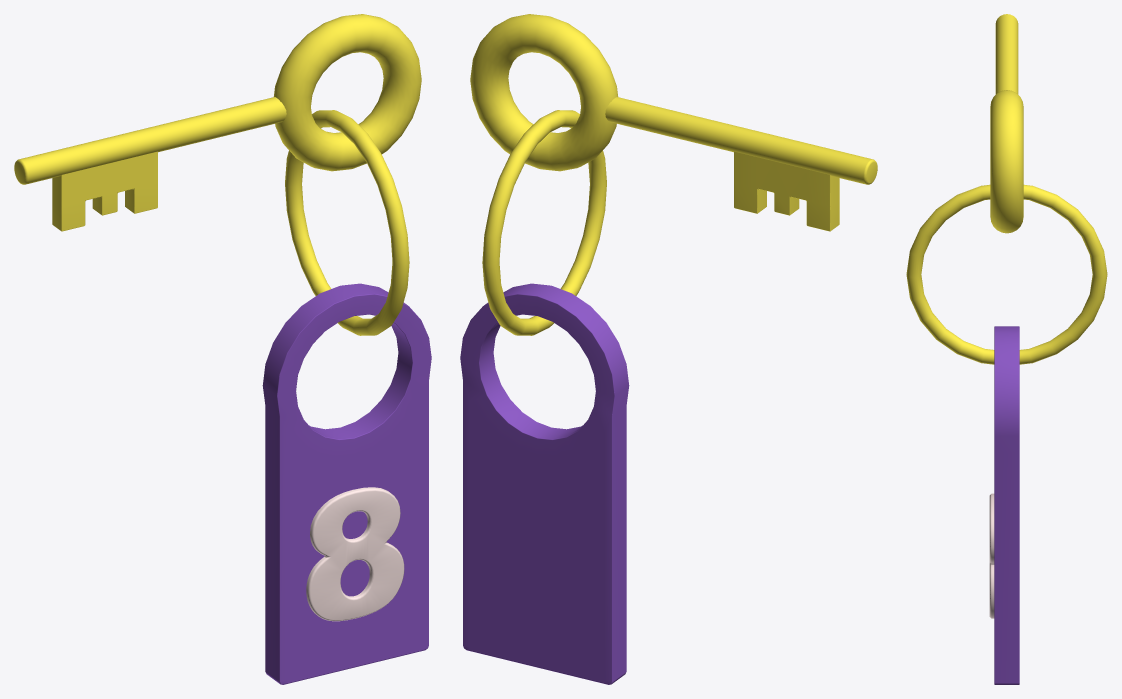
File: Public_7_Key_Number_8.glb
3 renders of one model, left to right at view 1: azimuth 30°, elevation 25°; view 2: azimuth 150°, elevation 25°; view 3: azimuth 270°, elevation 25°, orthographic. The views are drawn at different scales.
Parts seen in each view (by area): view 1: Public_7_Key_Number_8; view 2: Public_7_Key_Number_8; view 3: Public_7_Key_Number_8.
Boxes of the visible parts, x1,y1,x2,y2 form: Public_7_Key_Number_8: (14, 14, 431, 684); Public_7_Key_Number_8: (460, 14, 877, 684); Public_7_Key_Number_8: (906, 14, 1107, 684).
Bounding box in the file's own units: 1.61 × 2.45 × 0.8011.
1 material, 1 textured.
